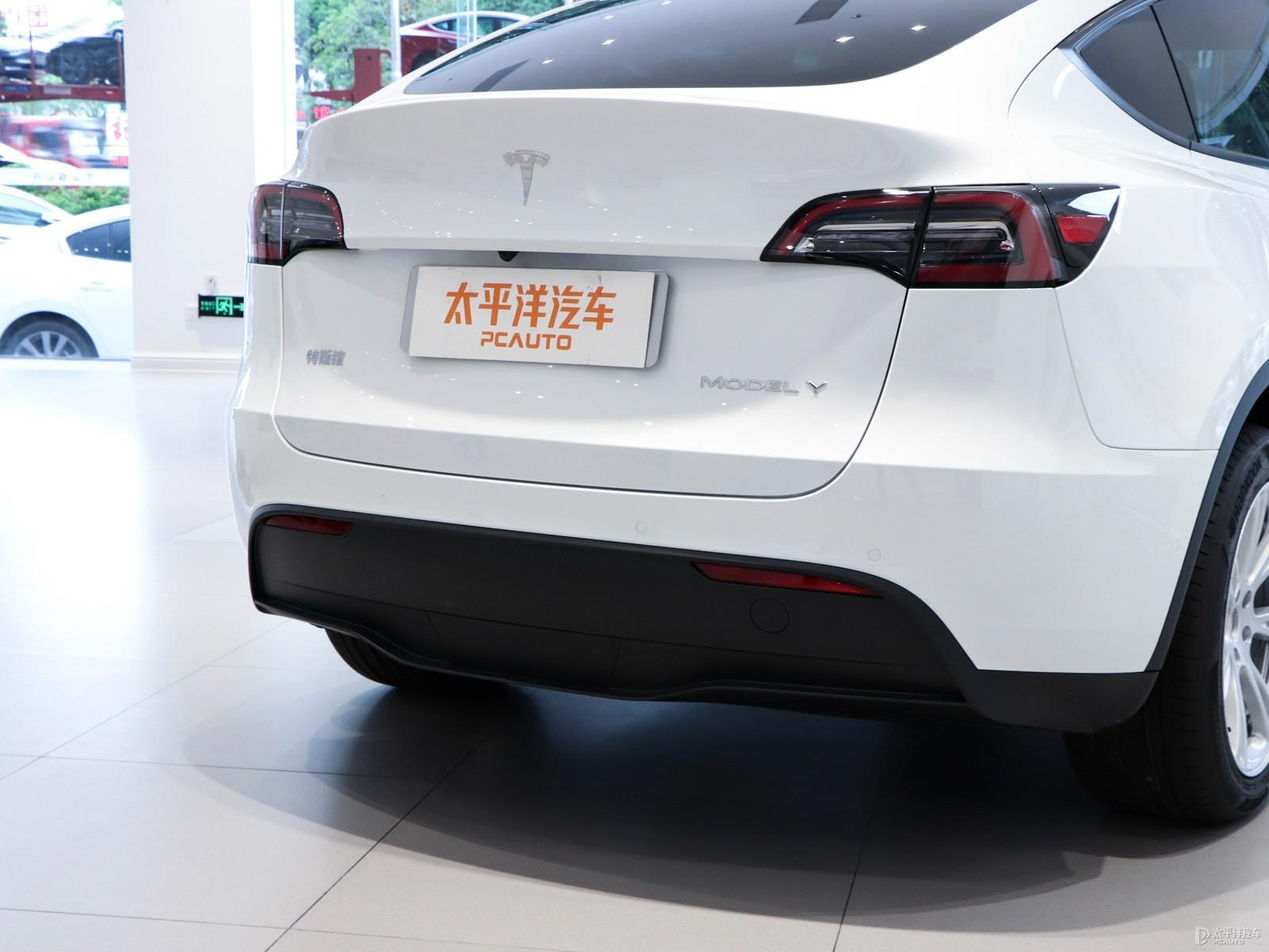Tesla: (500, 148, 550, 210)
